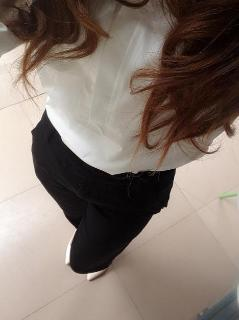long sleeve top: (0, 0, 239, 174)
trousers: (31, 108, 177, 274)
